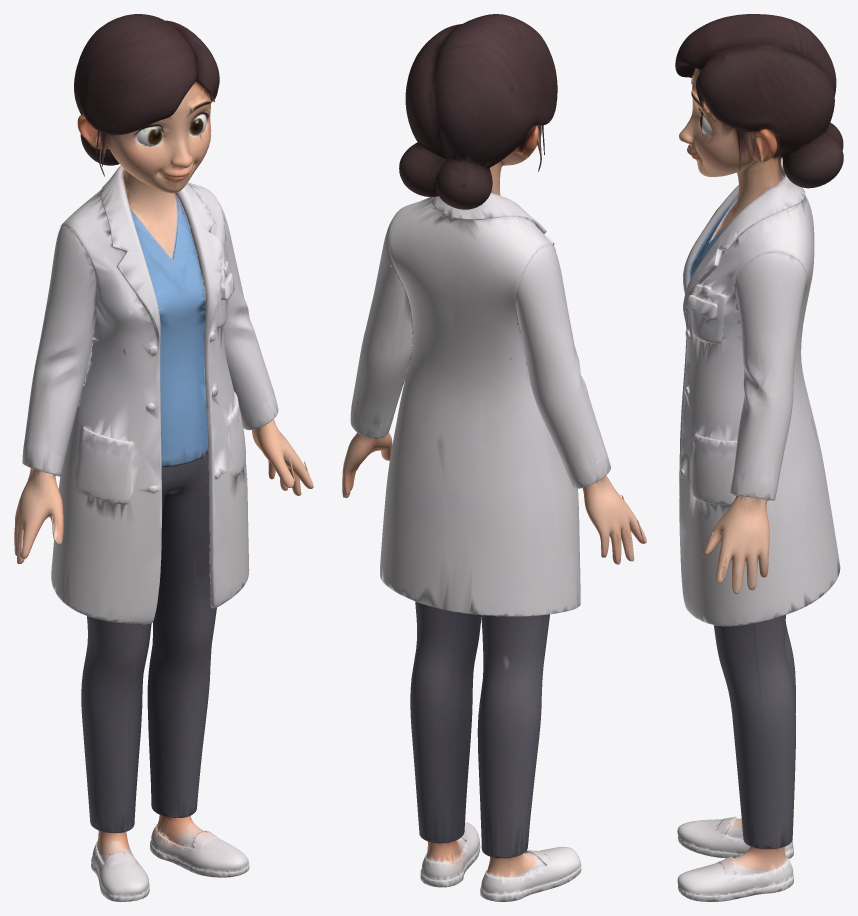
Rendered from atendente_balcon.glb.
3 renders of one model, left to right at view 1: azimuth 30°, elevation 25°; view 2: azimuth 150°, elevation 25°; view 3: azimuth 270°, elevation 25°, orthographic.
Visible parts, largest first — view 1: ground_fix; view 2: ground_fix; view 3: ground_fix.
Boxes of the visible parts, x1,y1,x2,y2 form: ground_fix: [14, 14, 313, 901]; ground_fix: [342, 14, 646, 901]; ground_fix: [675, 14, 843, 901].
Bounding box in the file's own units: 0.6466 × 1.79 × 0.3204.
1 material, 1 textured.
